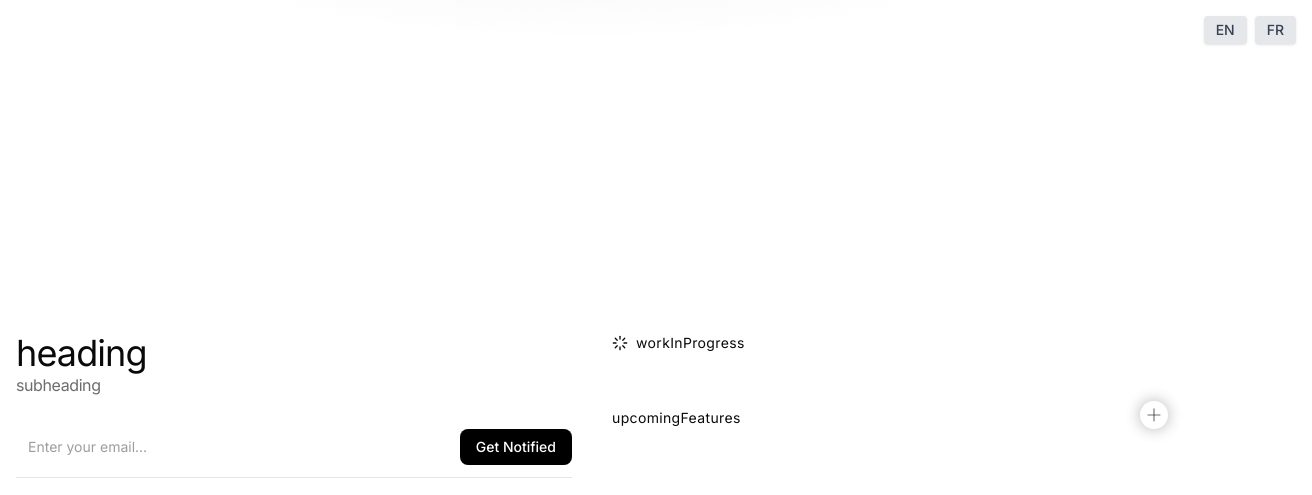
WaitListPage › should send send data to server when user joins wait list
Type "test@example.com" into the field with test id "waitlist-email-input" at x=232, y=446, box [16,428,448,464]
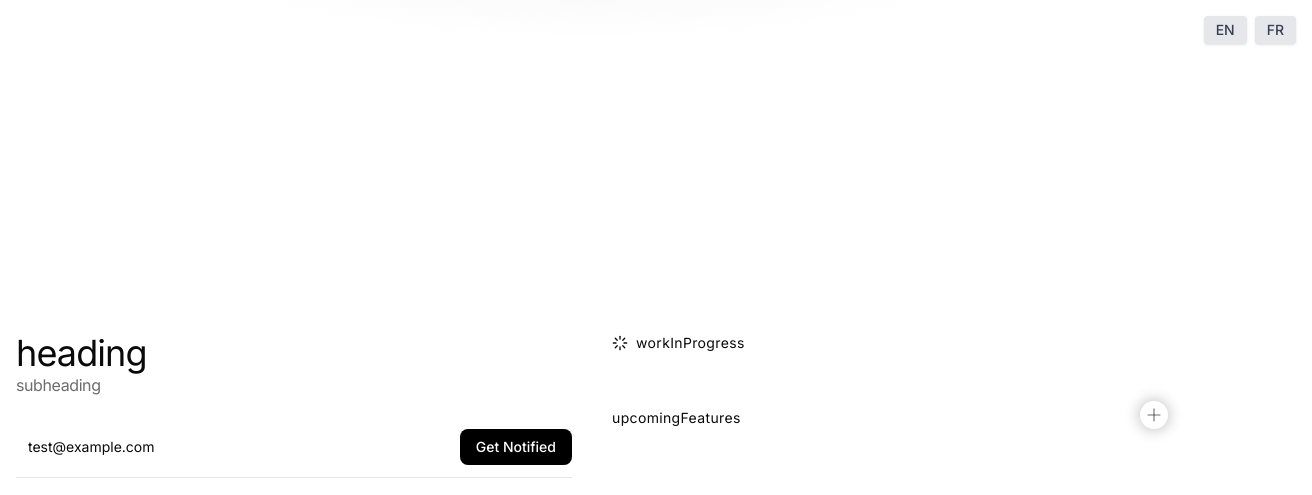
Click the button with test id "join-button" at x=516, y=446, box [460,428,572,464]
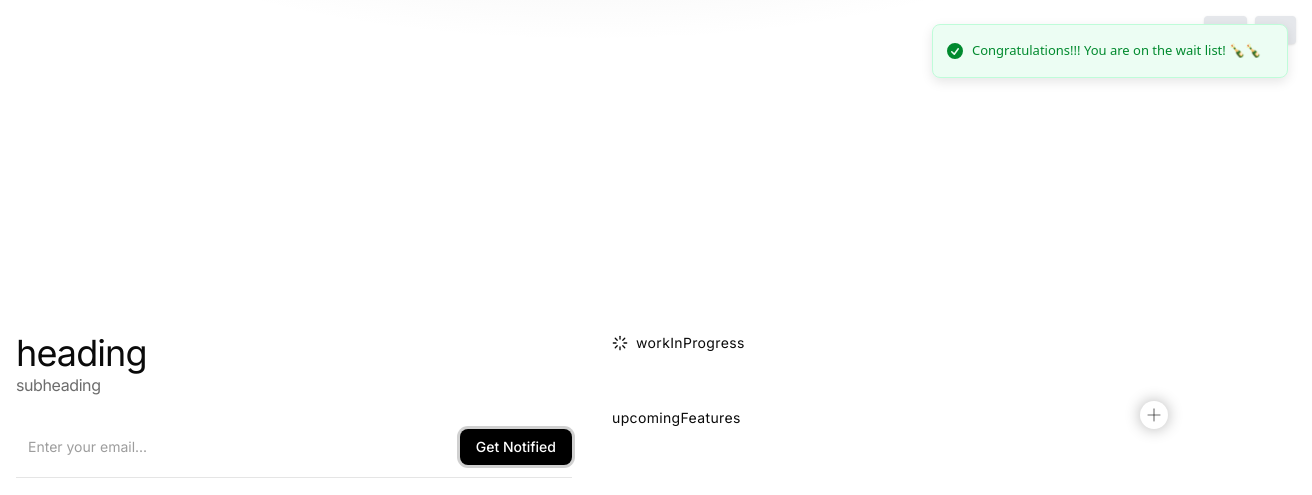
Now the field with test id "waitlist-email-input" is empty, box [16,428,448,464]
Now the text "Congratulations!!! You are on the wait list! 🍾🍾" is shown, box [972,41,1261,60]
